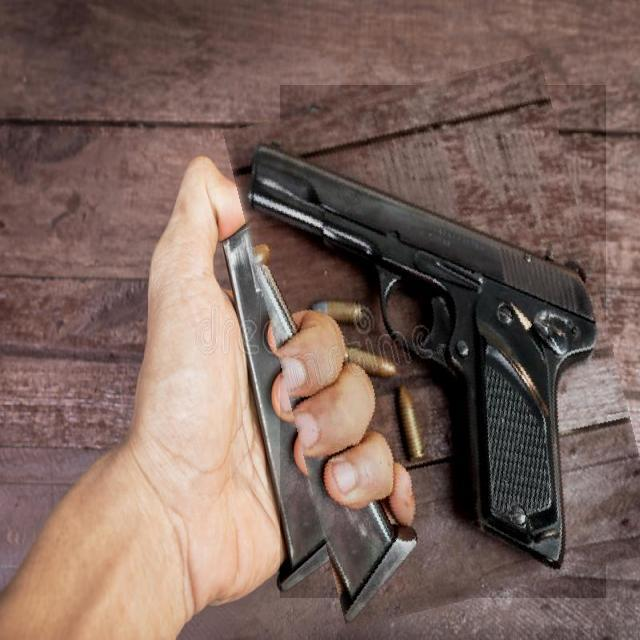handgun: (252, 69, 634, 614)
